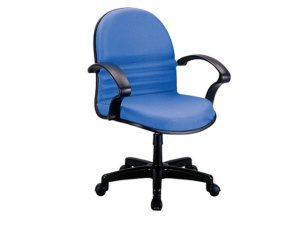chair: (87, 7, 232, 212)
